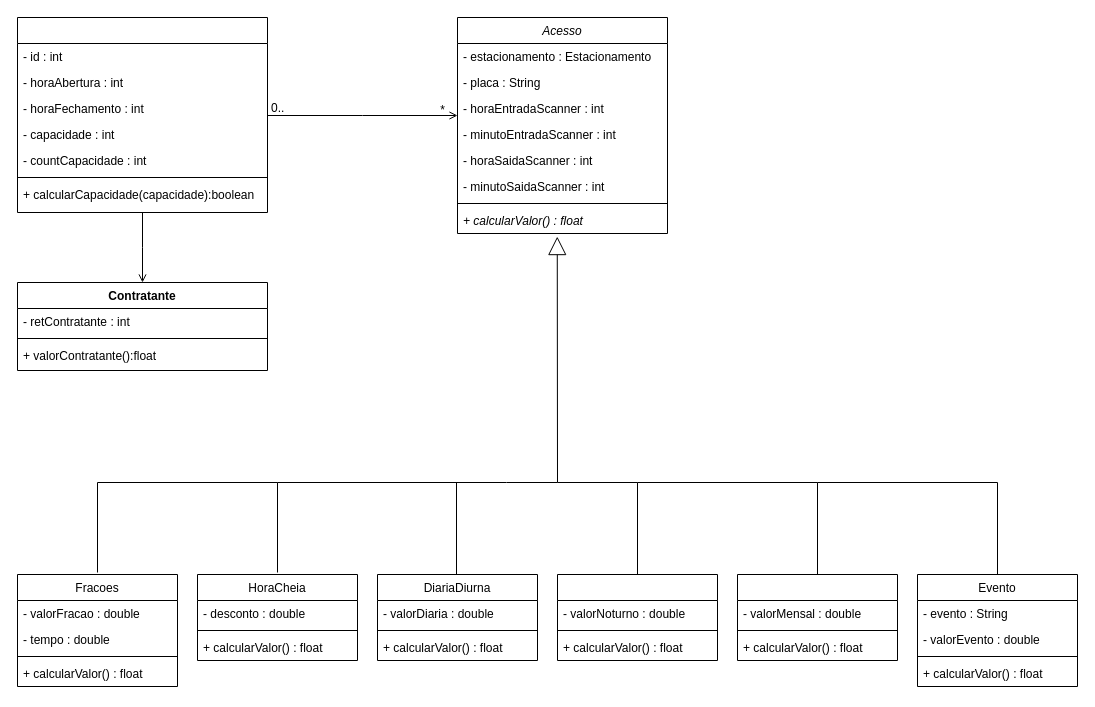
This 1095x707 diagram has some shape labels left out. The box of each missing label's shape, as (x1, y1, x2, y2) in pixels:
DiariaNoturna: (556, 574, 718, 660)
Estacionamento: (16, 16, 268, 212)
Mensalista: (736, 574, 898, 660)
